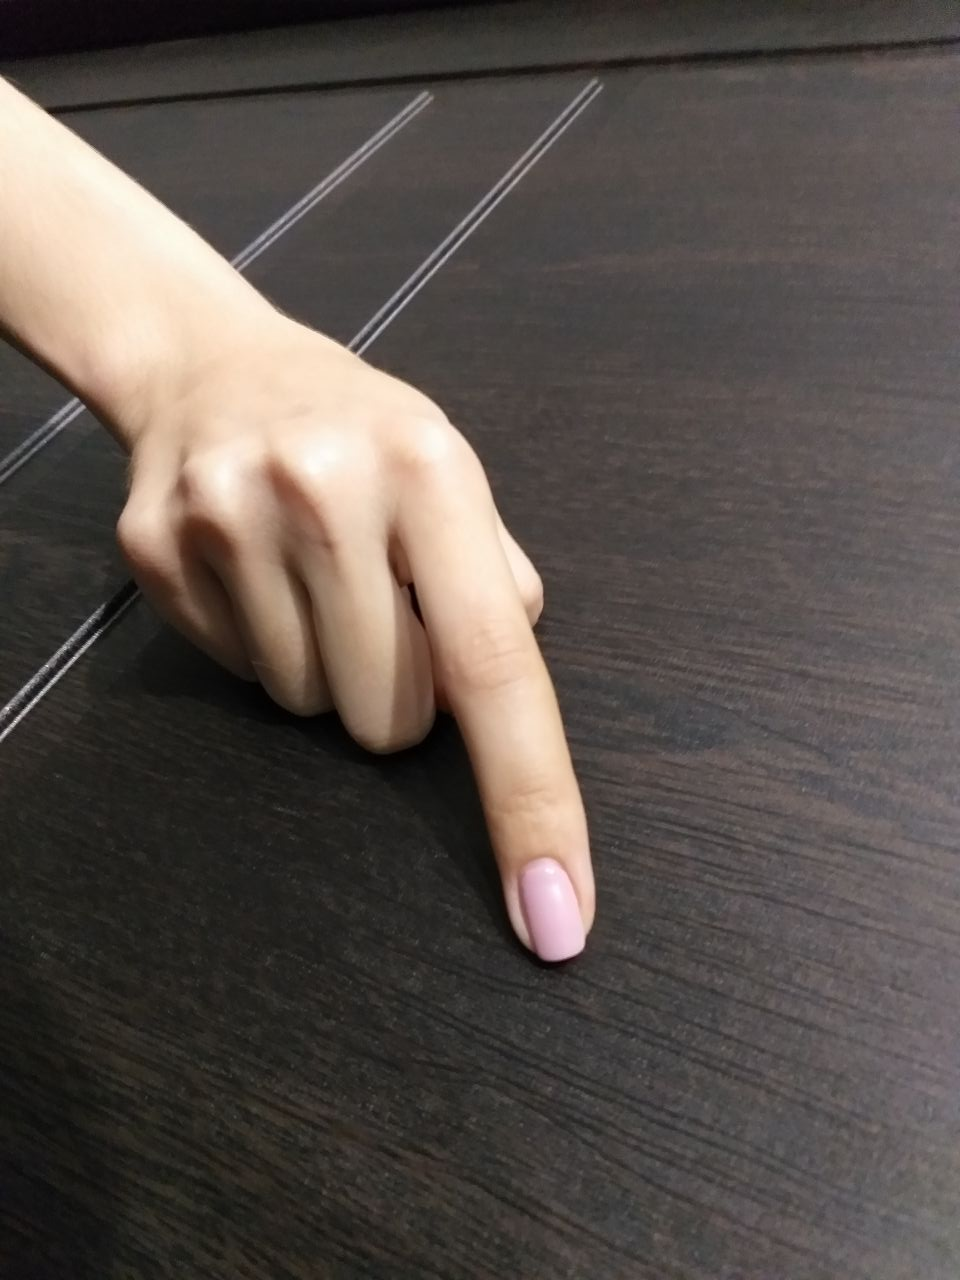finger: (490, 827, 594, 959)
